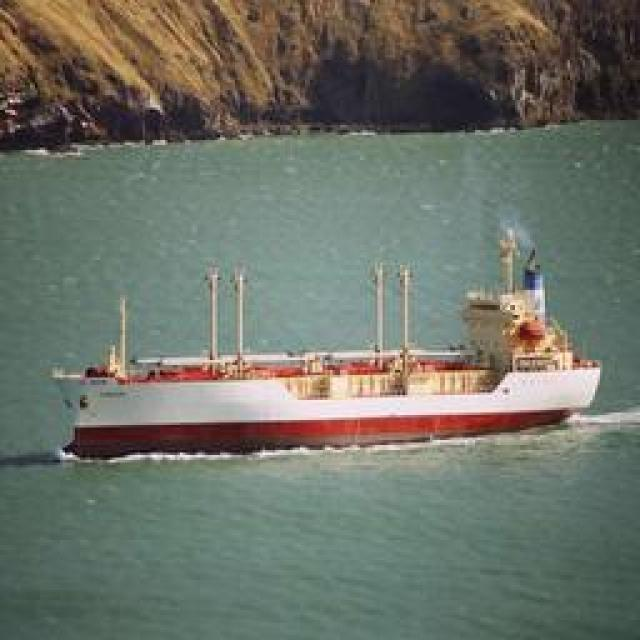ship2: (54, 224, 603, 462)
